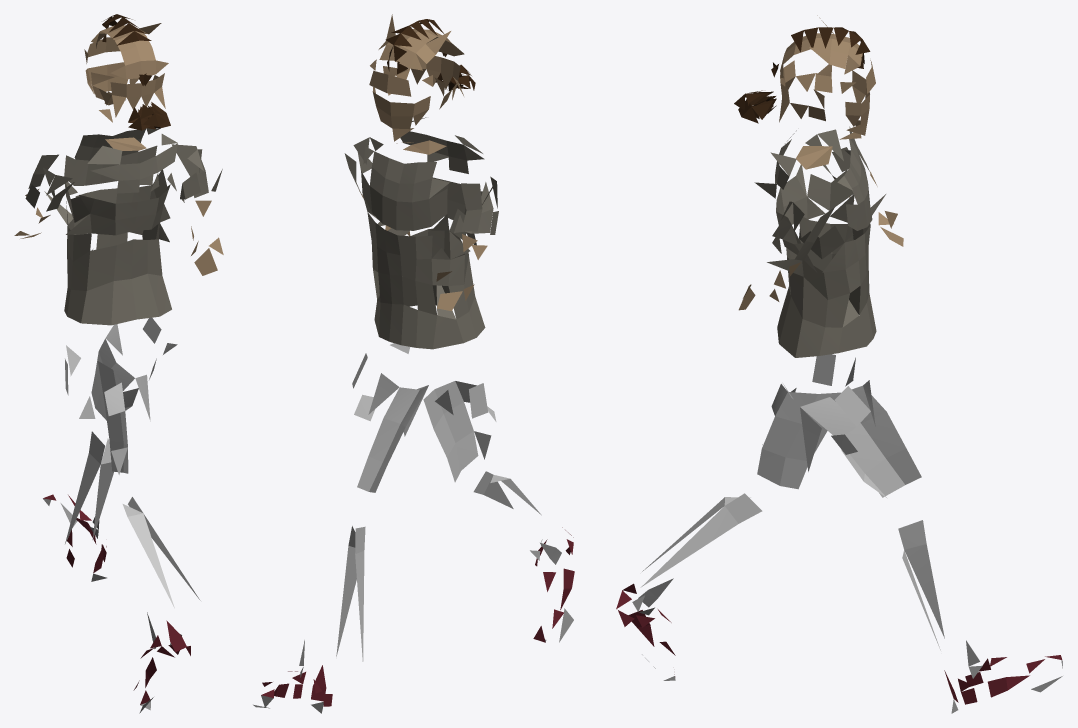
The model's file is personfar_9_w2.fbx.
3 renders of one model, left to right at view 1: azimuth 30°, elevation 25°; view 2: azimuth 150°, elevation 25°; view 3: azimuth 270°, elevation 25°, orthographic. The views are drawn at different scales.
Parts seen in each view (by area): view 1: Casual2_Feet; view 2: Casual2_Feet; view 3: Casual2_Feet.
Boxes of the visible parts, x1=… form: Casual2_Feet: x1=14, y1=14, x2=223, y2=713; Casual2_Feet: x1=253, y1=14, x2=574, y2=713; Casual2_Feet: x1=616, y1=15, x2=1062, y2=713.
Bounding box in the file's own units: 0.2697 × 0.9959 × 0.6101.
